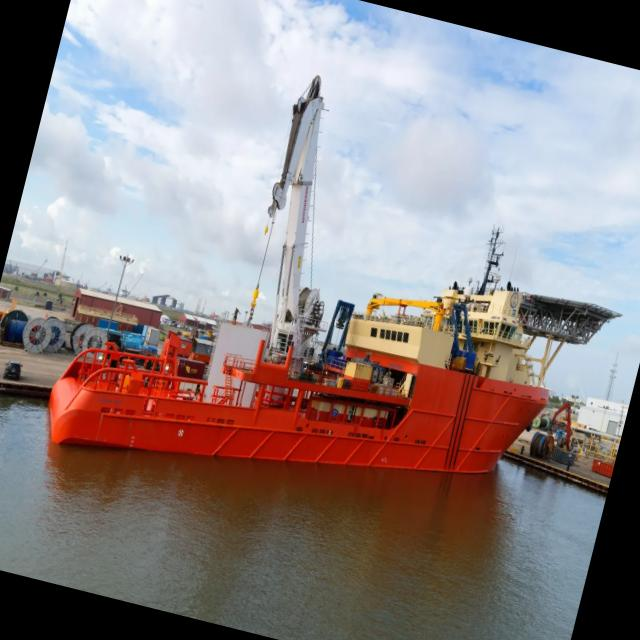Offshore: (49, 77, 617, 472)
